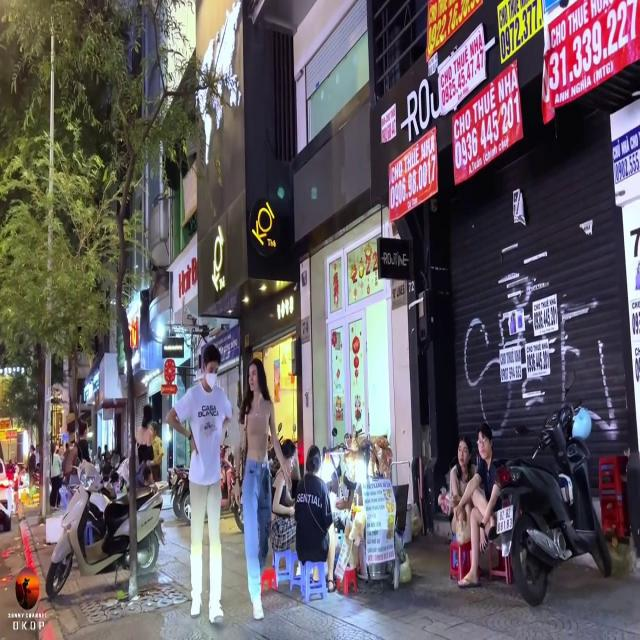bien_trang: (495, 503, 514, 536)
